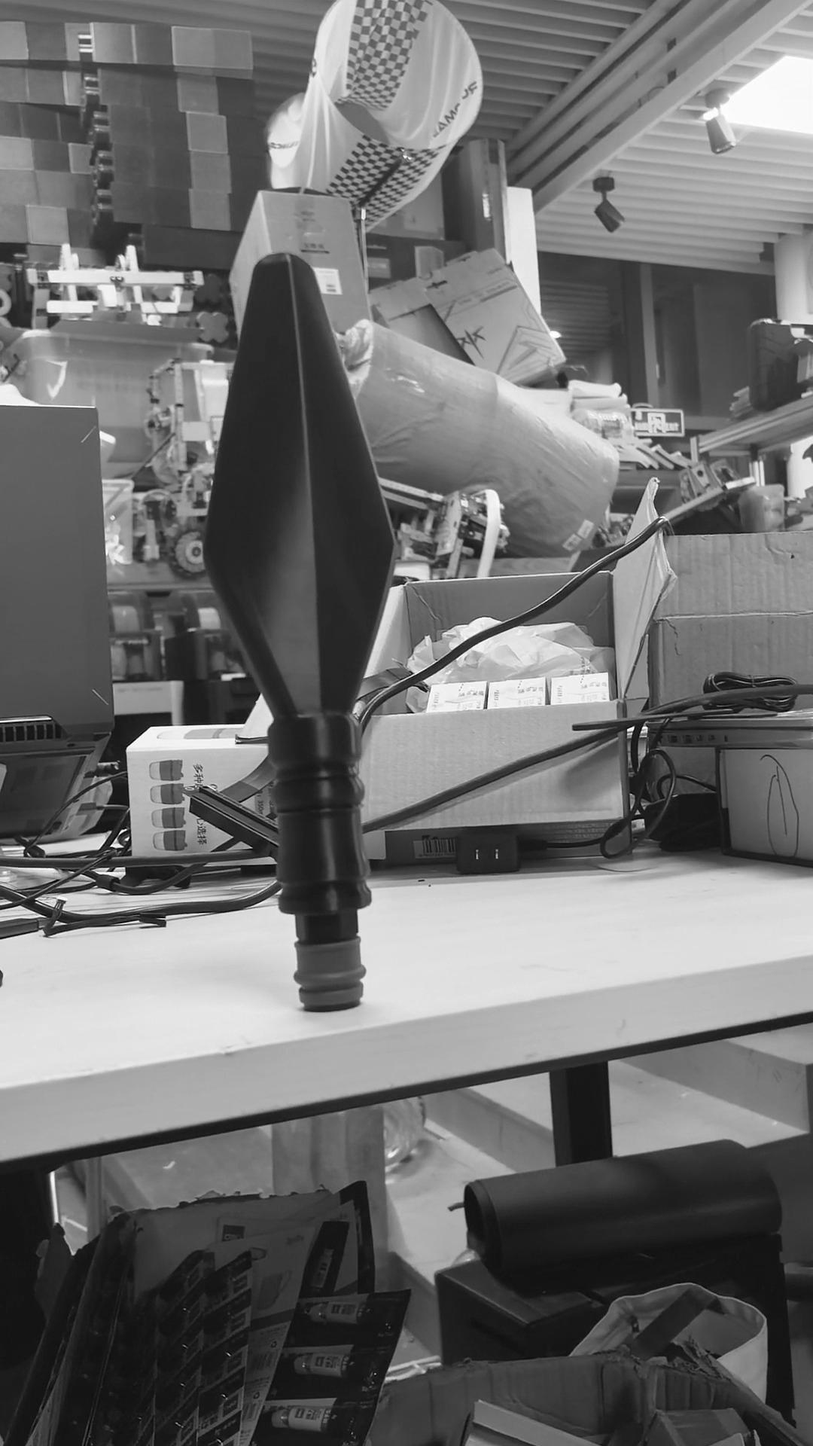base: (279, 937, 374, 1019)
